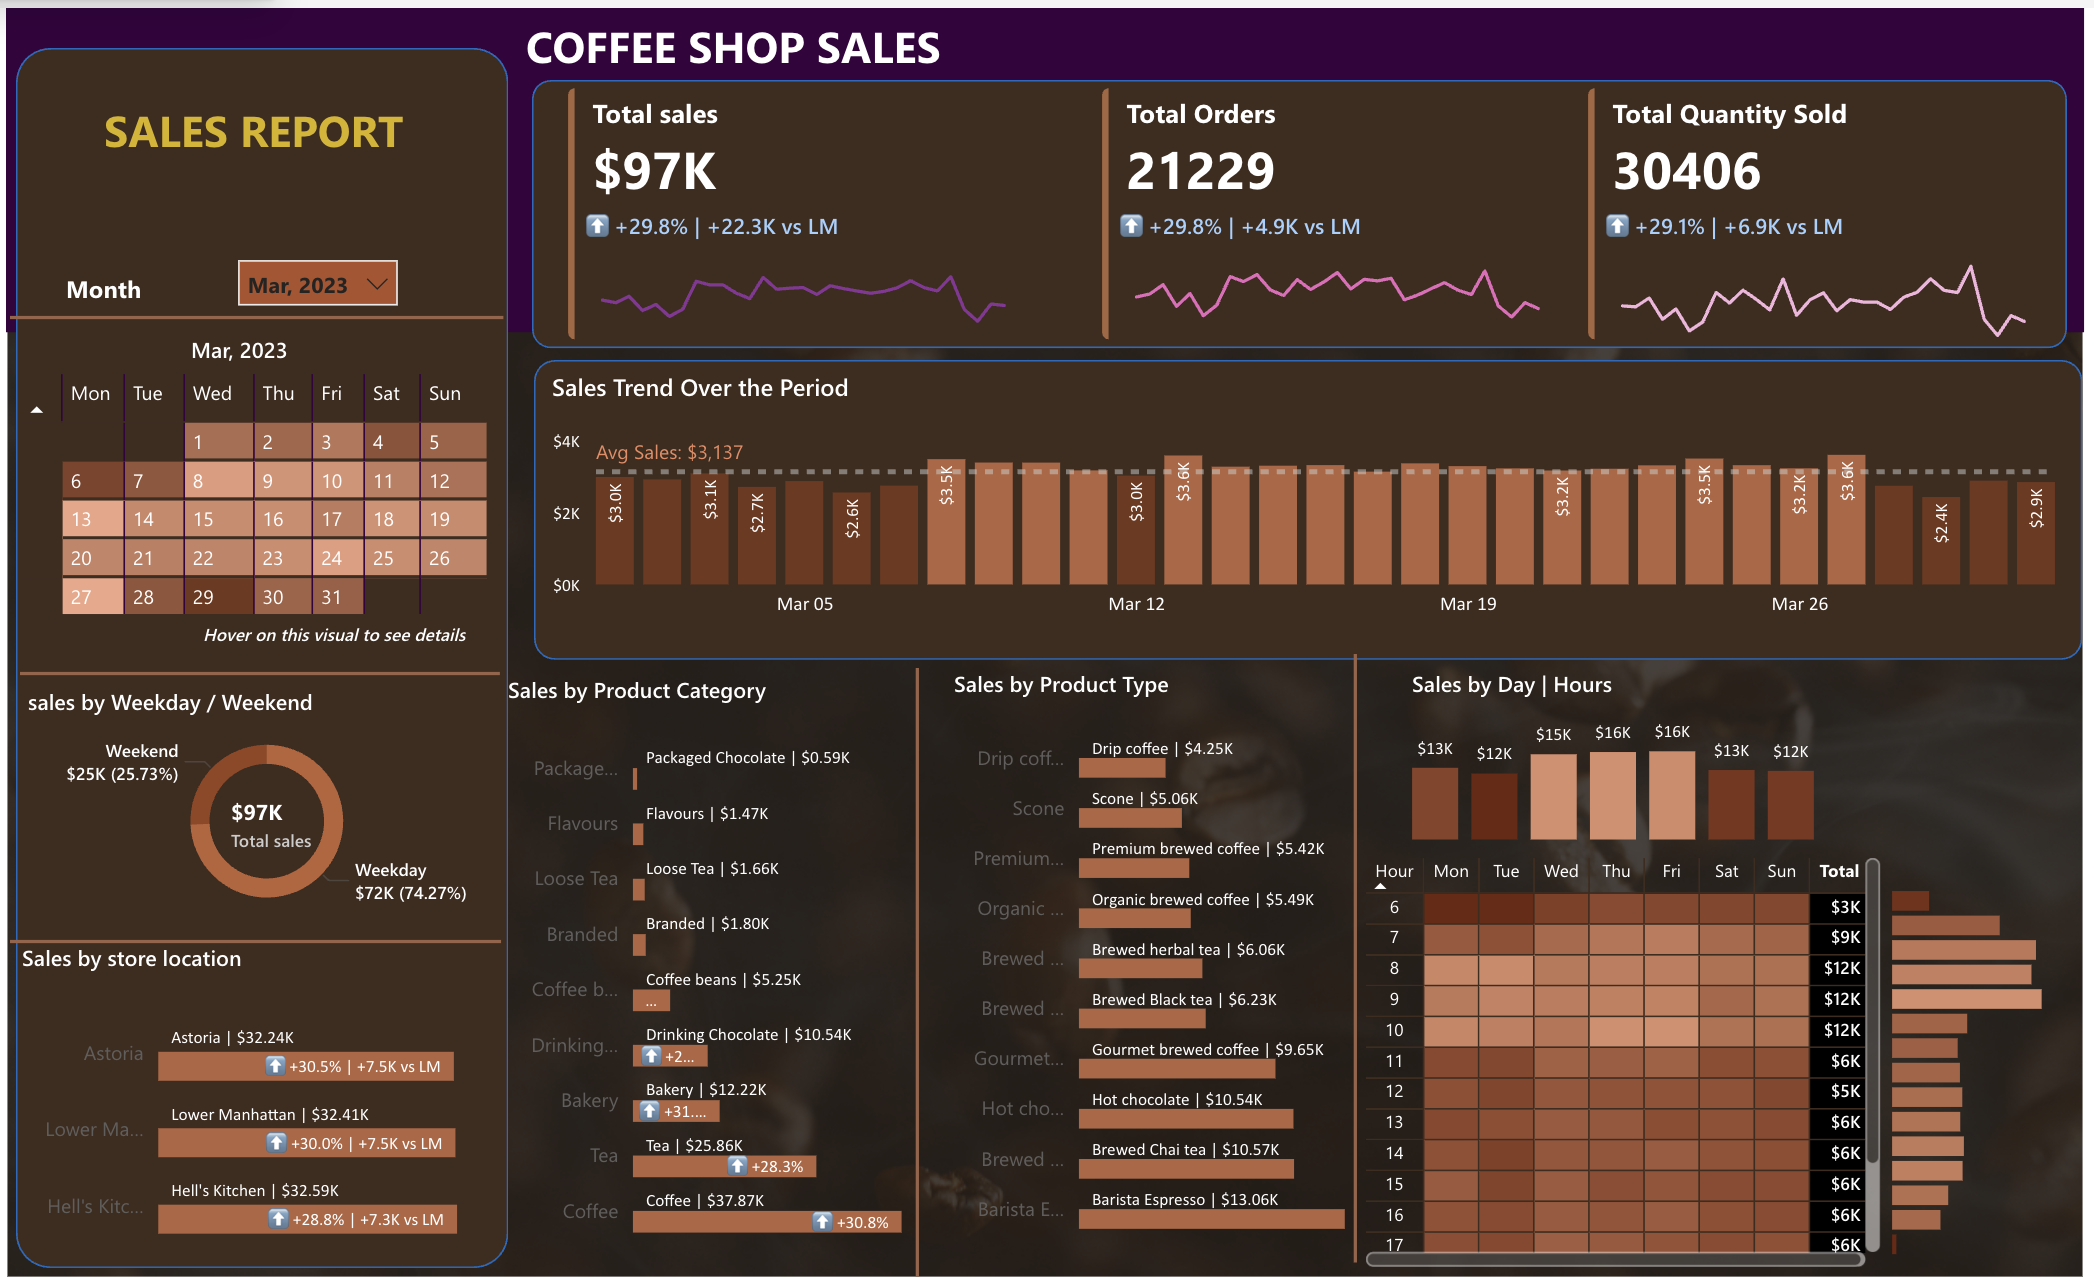

Layout of this report page (visuals, bound fields, positions):
{"tool":"powerbi","page":{"name":"Page 1","canvas":[1400,850],"ordinal":0},"visuals":[{"type":"shape","box":[59.8,0,1281.8,200.2],"z":0},{"type":"cardVisual","fields":{"Data":["Table1.Total sales"]},"box":[400.4,44.5,300.3,165.4],"z":0,"group":"g1"},{"type":"cardVisual","fields":{"Data":["Table1.Total Orders"]},"box":[729.9,44.5,300.3,165.4],"z":0,"group":"g2"},{"type":"cardVisual","fields":{"Data":["Table1.Total Quantity Sold"]},"box":[1030.2,44.5,300.3,165.4],"z":0,"group":"g3"},{"type":"shape","box":[65.1,25,303.7,752.6],"z":1000},{"type":"lineChart","fields":{"Category":["Date Table.Date.Variation.Date Hierarchy.Year","Date Table.Date.Variation.Date Hierarchy.Quarter","Date Table.Date.Variation.Date Hierarchy.Month","Date Table.Date.Variation.Date Hierarchy.Day"],"Y":["Table1.Total sales"]},"box":[411.5,125.1,278.1,84.8],"z":1000,"group":"g1"},{"type":"lineChart","fields":{"Category":["Date Table.Date.Variation.Date Hierarchy.Year","Date Table.Date.Variation.Date Hierarchy.Quarter","Date Table.Date.Variation.Date Hierarchy.Month","Date Table.Date.Variation.Date Hierarchy.Day"],"Y":["Table1.Total Orders"]},"box":[741,125.1,278.1,84.8],"z":1000,"group":"g2"},{"type":"lineChart","fields":{"Category":["Date Table.Date.Variation.Date Hierarchy.Year","Date Table.Date.Variation.Date Hierarchy.Quarter","Date Table.Date.Variation.Date Hierarchy.Month","Date Table.Date.Variation.Date Hierarchy.Day"],"Y":["Table1.Total Quantity Sold"]},"box":[1041.3,125.1,278.1,84.8],"z":1000,"group":"g3"},{"type":"shape","box":[383.7,44.5,946.8,165.4],"z":2000},{"type":"textbox","box":[375.4,0,335.1,59.8],"z":3000},{"type":"slicer","fields":{"Values":["Date Table.Month Year"]},"box":[196.9,150.2,108.5,33.4],"z":4000},{"type":"group","id":"g1","title":"Group 1","box":[400.4,44.5,300.3,165.4],"z":5000},{"type":"group","id":"g2","title":"Group 1","box":[729.9,44.5,300.3,165.4],"z":6000},{"type":"group","id":"g3","title":"Group 1","box":[1030.2,44.5,300.3,165.4],"z":7000},{"type":"pivotTable","fields":{"Columns":["Date Table.Day Name"],"Values":["Min(Date Table.Day Number)"],"Rows":["Date Table.Week Number"]},"box":[64,221.1,304.5,180.7],"z":8000},{"type":"cardVisual","fields":{"Data":["Min(Date Table.Month Year)"]},"box":[144.6,182.1,118.2,54.2],"z":9000},{"type":"cardVisual","fields":{"Data":["Table1.Foot Note"]},"box":[151.5,357.3,222.4,55.6],"z":10000},{"type":"shape","box":[68.1,401.8,296.1,16.7],"z":11000},{"type":"shape","box":[61.2,182.1,304.5,16.7],"z":12000},{"type":"donutChart","title":"sales by Weekday / Weekend","fields":{"Category":["Date Table.Weekday / Weekend"],"Y":["Table1.Total sales"]},"box":[68.1,418.5,304.5,148.8],"z":13000},{"type":"cardVisual","fields":{"Data":["Table1.Total sales"]},"box":[169.6,460.2,164.1,86.2],"z":14000},{"type":"clusteredBarChart","title":"Sales by store location","fields":{"Category":["Table1.store_location"],"Y":["Table1.Placeholder","Table1.Total sales"]},"box":[64,575.6,304.5,205.8],"z":15000},{"type":"shape","box":[61.2,567.2,303.1,16.7],"z":16000},{"type":"shape","box":[385.1,216.9,955.1,184.9],"z":17000},{"type":"clusteredColumnChart","title":"Sales Trend Over the Period","fields":{"Category":["Table1.transaction_date"],"Y":["Table1.Total sales"]},"box":[390.7,223.8,944,161.3],"z":18000},{"type":"clusteredBarChart","title":"Sales by Product Category","fields":{"Y":["Table1.Placeholder","Table1.Total sales"],"Category":["Table1.product_category"]},"box":[363.8,410.5,275.3,363.8],"z":19000},{"type":"shape","box":[592.4,407.2,58.4,375.4],"z":19001},{"type":"clusteredBarChart","title":"Sales by Product Type","fields":{"Y":["Table1.Placeholder","Table1.Total sales"],"Category":["Table1.product_type"]},"box":[639.1,407.2,275.3,363.8],"z":19002},{"type":"shape","box":[862.7,398.8,58.4,375.4],"z":19003},{"type":"pivotTable","fields":{"Rows":["Table1.Hour"],"Columns":["Date Table.Day Name"],"Values":["Table1.Total sales"]},"box":[892.7,519,327.1,262],"z":19004},{"type":"barChart","fields":{"Category":["Table1.Hour"],"Y":["Table1.Total sales"]},"box":[1218.1,532.3,121.8,242],"z":19005},{"type":"columnChart","title":"Sales by Day | Hours","fields":{"Y":["Table1.Total sales"],"Category":["Date Table.Day Name"]},"box":[921.1,407.2,258.6,111.8],"z":19006},{"type":"textbox","box":[115.1,51.7,203.6,48.4],"z":19007},{"type":"textbox","box":[91.8,158.5,105.1,40],"z":19008}]}

Visuals, with their boxes in screenshot pixels (x1, y1, x2, y2), scaled from the page's 1400x850 canvas onto the 2094x1278 screenshot:
shape: region(89, 0, 2007, 301)
cardVisual - Table1.Total sales: region(599, 67, 1048, 316)
cardVisual - Table1.Total Orders: region(1092, 67, 1541, 316)
cardVisual - Table1.Total Quantity Sold: region(1541, 67, 1990, 316)
shape: region(97, 38, 552, 1169)
lineChart - Date Table.Date.Variation.Date Hierarchy.Year x Date Table.Date.Variation.Date Hierarchy.Quarter: region(615, 188, 1031, 316)
lineChart - Date Table.Date.Variation.Date Hierarchy.Year x Date Table.Date.Variation.Date Hierarchy.Quarter: region(1108, 188, 1524, 316)
lineChart - Date Table.Date.Variation.Date Hierarchy.Year x Date Table.Date.Variation.Date Hierarchy.Quarter: region(1557, 188, 1973, 316)
shape: region(574, 67, 1990, 316)
textbox: region(561, 0, 1063, 90)
slicer - Date Table.Month Year: region(295, 226, 457, 276)
"Group 1" group: region(599, 67, 1048, 316)
"Group 1" group: region(1092, 67, 1541, 316)
"Group 1" group: region(1541, 67, 1990, 316)
pivotTable - Date Table.Day Name x Min(Date Table.Day Number): region(96, 332, 551, 604)
cardVisual - Min(Date Table.Month Year): region(216, 274, 393, 355)
cardVisual - Table1.Foot Note: region(227, 537, 559, 621)
shape: region(102, 604, 545, 629)
shape: region(92, 274, 547, 299)
"sales by Weekday / Weekend" donutChart: region(102, 629, 557, 853)
cardVisual - Table1.Total sales: region(254, 692, 499, 822)
"Sales by store location" clusteredBarChart: region(96, 865, 551, 1175)
shape: region(92, 853, 545, 878)
shape: region(576, 326, 2005, 604)
"Sales Trend Over the Period" clusteredColumnChart: region(584, 336, 1996, 579)
"Sales by Product Category" clusteredBarChart: region(544, 617, 956, 1164)
shape: region(886, 612, 973, 1177)
"Sales by Product Type" clusteredBarChart: region(956, 612, 1368, 1159)
shape: region(1290, 600, 1378, 1164)
pivotTable - Table1.Hour x Date Table.Day Name: region(1335, 780, 1824, 1174)
barChart - Table1.Hour x Table1.Total sales: region(1822, 800, 2004, 1164)
"Sales by Day | Hours" columnChart: region(1378, 612, 1764, 780)
textbox: region(172, 78, 477, 151)
textbox: region(137, 238, 295, 298)
